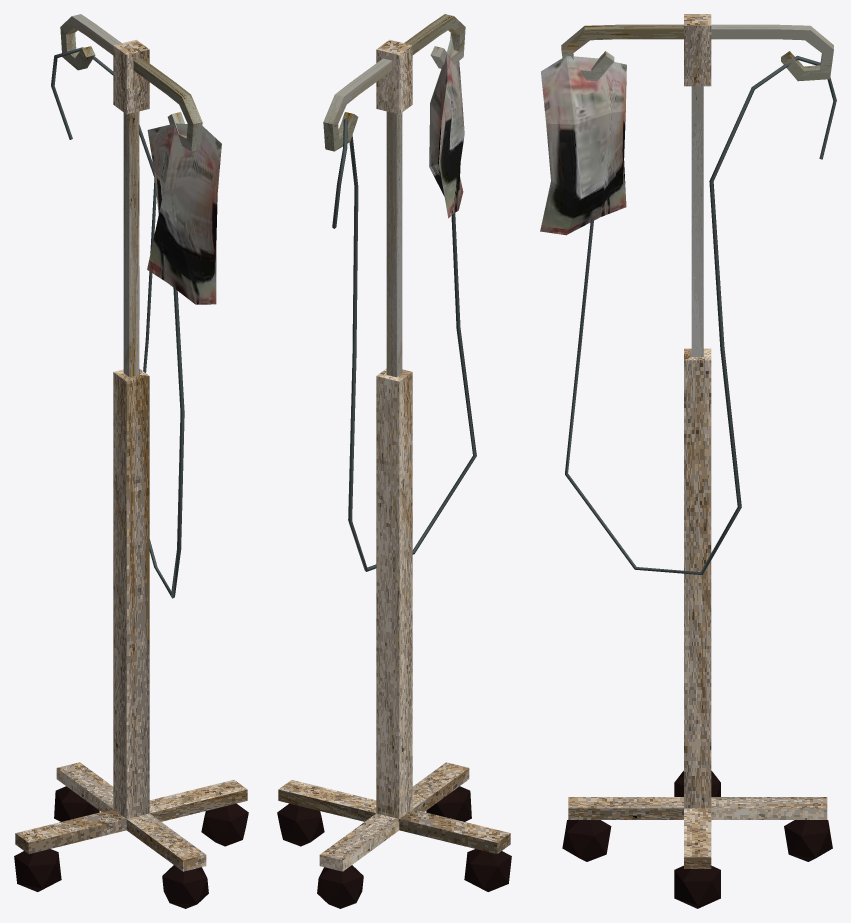
Rendered from iv_pole_blood_bag.glb.
The picture shows the model from 3 angles, left to right: view 1: azimuth 30°, elevation 25°; view 2: azimuth 150°, elevation 25°; view 3: azimuth 270°, elevation 25°; orthographic projection. The views are drawn at different scales.
Parts seen in each view (by area): view 1: pole, bag, wheel, top bar, line; view 2: pole, wheel, bag, line, top bar; view 3: pole, bag, wheel, top bar, line.
Part boxes in pixels (<box>): pole: <box>15,39,247,871</box>; bag: <box>147,123,221,304</box>; wheel: <box>14,786,248,908</box>; top bar: <box>60,14,202,151</box>; line: <box>51,47,184,598</box>; pole: <box>278,39,510,871</box>; wheel: <box>277,786,511,908</box>; bag: <box>429,36,464,218</box>; line: <box>332,118,476,571</box>; top bar: <box>323,14,465,151</box>; pole: <box>568,14,827,868</box>; bag: <box>540,55,626,235</box>; wheel: <box>562,771,832,908</box>; top bar: <box>561,24,833,81</box>; line: <box>565,55,836,574</box>.
Size of the model in its own units: 0.4939 by 1.7 by 0.5418.
Materials: 4 (2 with a texture image).
